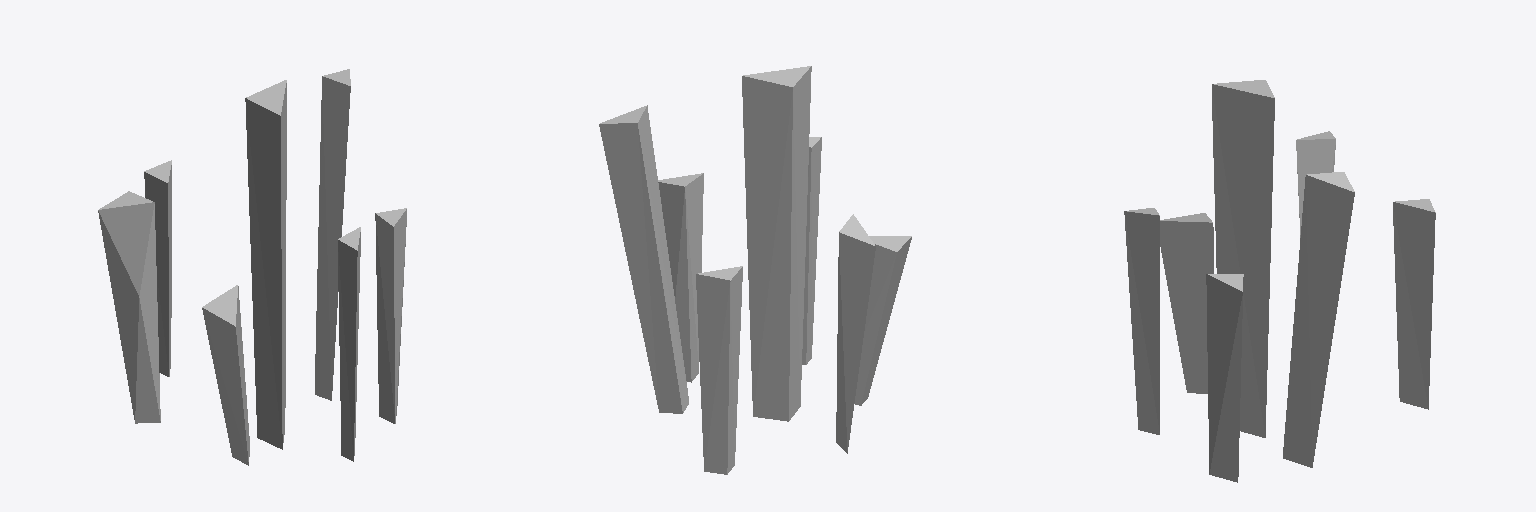
The model's file is algea2.obj.
The picture shows the model from 3 angles: view 1: azimuth 30°, elevation 25°; view 2: azimuth 150°, elevation 25°; view 3: azimuth 270°, elevation 25°; orthographic projection.
Size of the model in its own units: 2.99 by 3.68 by 3.03.